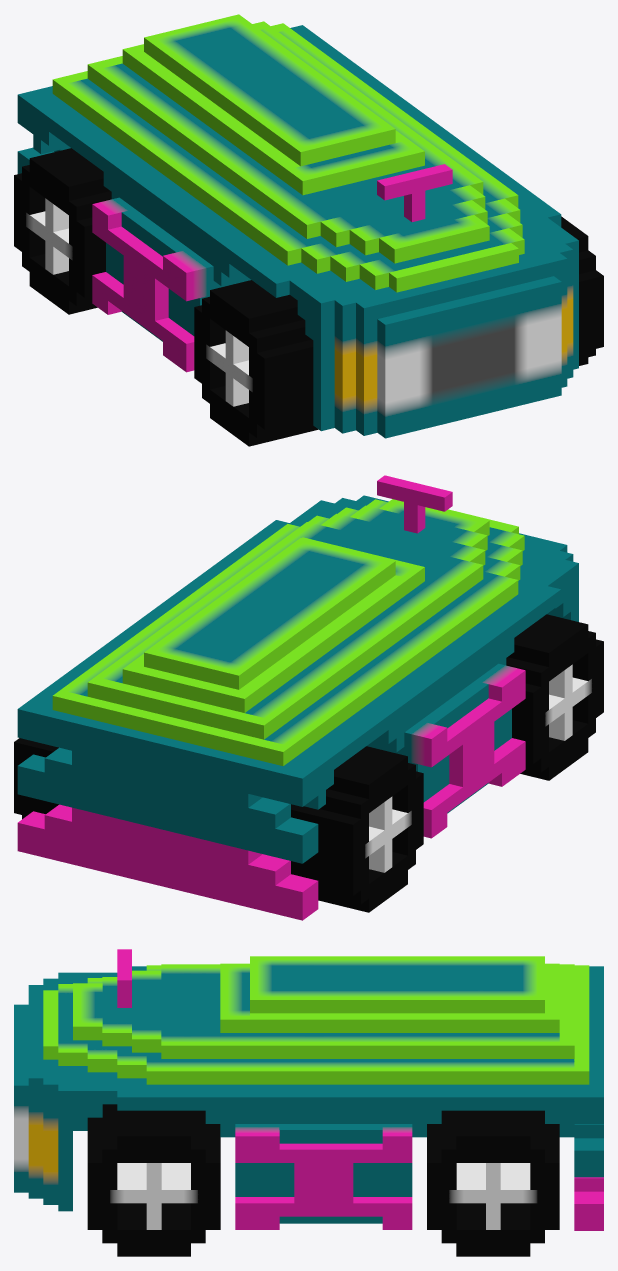
The model's file is Car_43.fbx.
The picture shows the model from 3 angles, top to bottom: view 1: azimuth 30°, elevation 25°; view 2: azimuth 150°, elevation 25°; view 3: azimuth 270°, elevation 25°; orthographic projection. The views are drawn at different scales.
Parts seen in each view (by area): view 1: Car_43; view 2: Car_43; view 3: Car_43.
Boxes of the visible parts, bbox=[...] form: Car_43: bbox=[14, 14, 603, 446]; Car_43: bbox=[14, 475, 603, 920]; Car_43: bbox=[14, 949, 603, 1256].
Size of the model in its own units: 25 by 16 by 40.
1 material, 1 textured.
